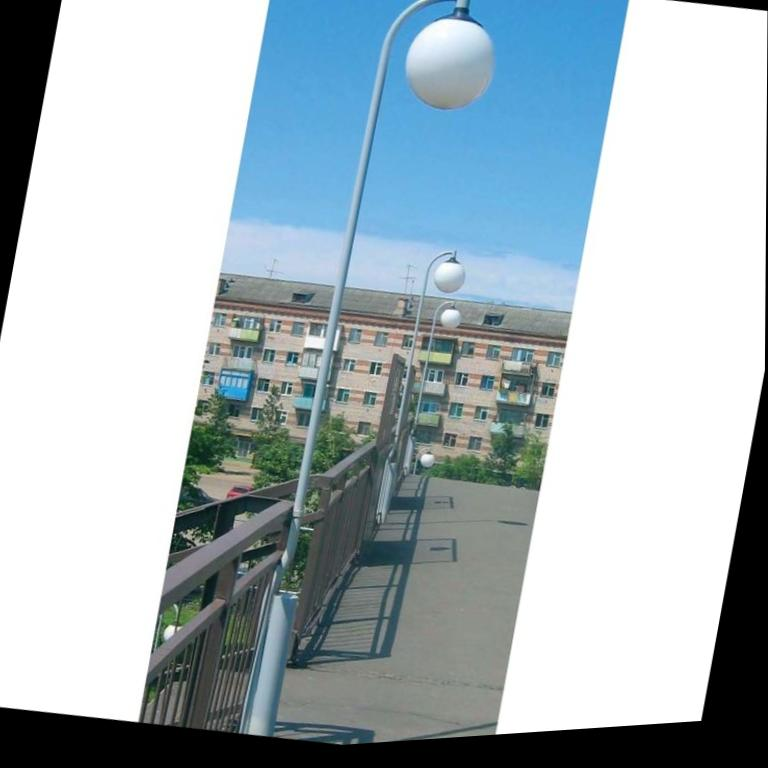Animal: (231, 0, 482, 756), (364, 242, 462, 533), (397, 295, 469, 484)
